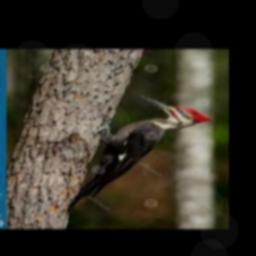Woodpecker: (67, 95, 209, 212)
